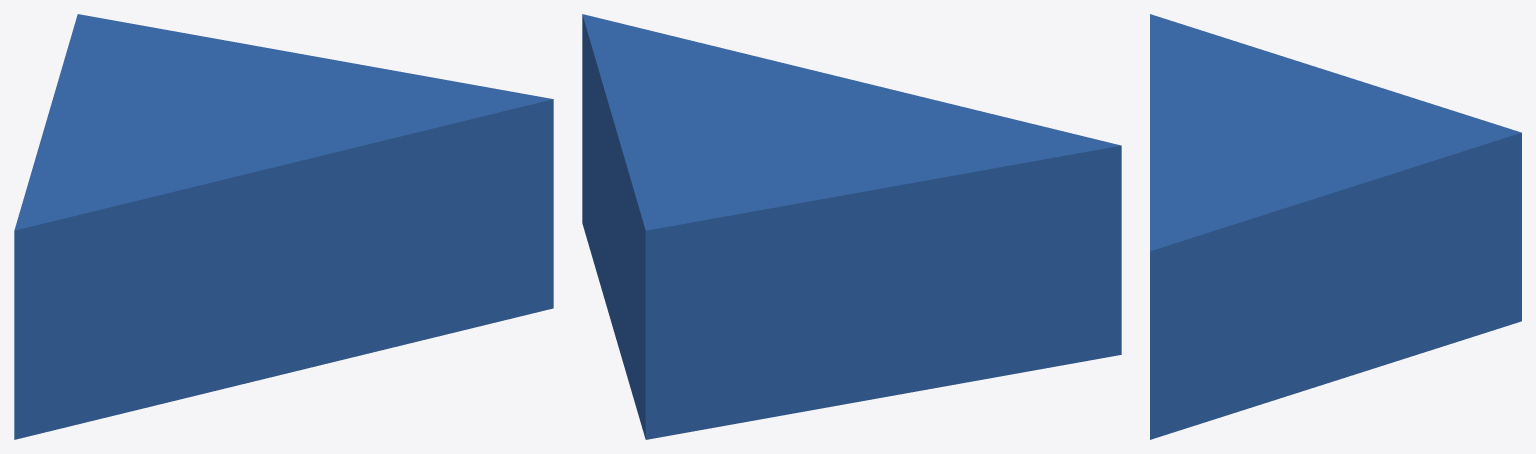
Rendered from SHP0110006.fbx.
3 renders of one model, left to right at view 1: azimuth 30°, elevation 25°; view 2: azimuth 150°, elevation 25°; view 3: azimuth 270°, elevation 25°, orthographic. The views are drawn at different scales.
Visible parts, largest first — view 1: smSHP0110006; view 2: smSHP0110006; view 3: smSHP0110006.
Part boxes in pixels (x1,y1,x2,y2): smSHP0110006: (14, 14, 553, 439); smSHP0110006: (582, 14, 1121, 439); smSHP0110006: (1150, 14, 1521, 439).
Bounding box in the file's own units: 122 × 45.06 × 80.51.
1 material, 1 textured.
